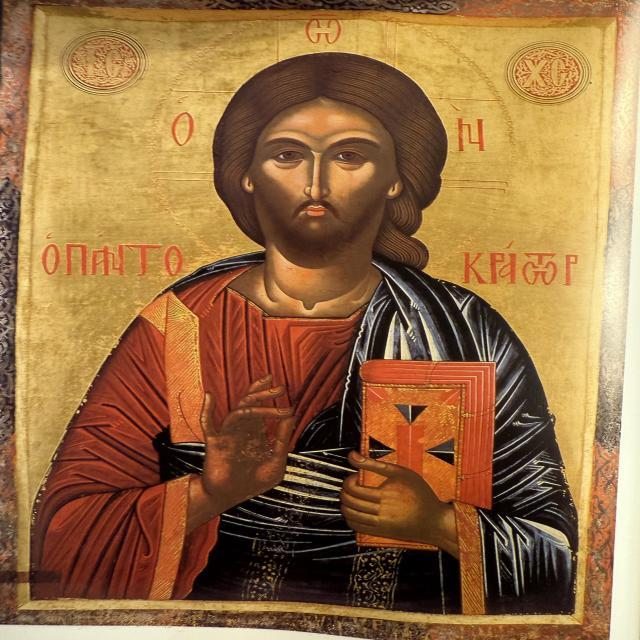aura: (159, 14, 523, 272)
book: (344, 346, 504, 557)
christ: (34, 14, 584, 619)
christ_hand: (153, 369, 303, 519)
